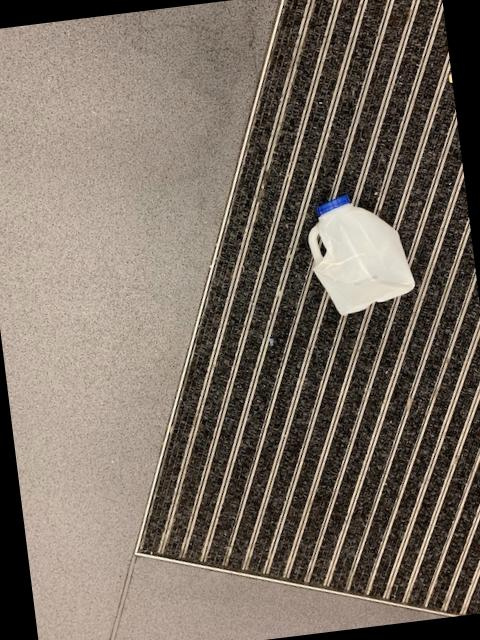plastic: (306, 195, 412, 315)
